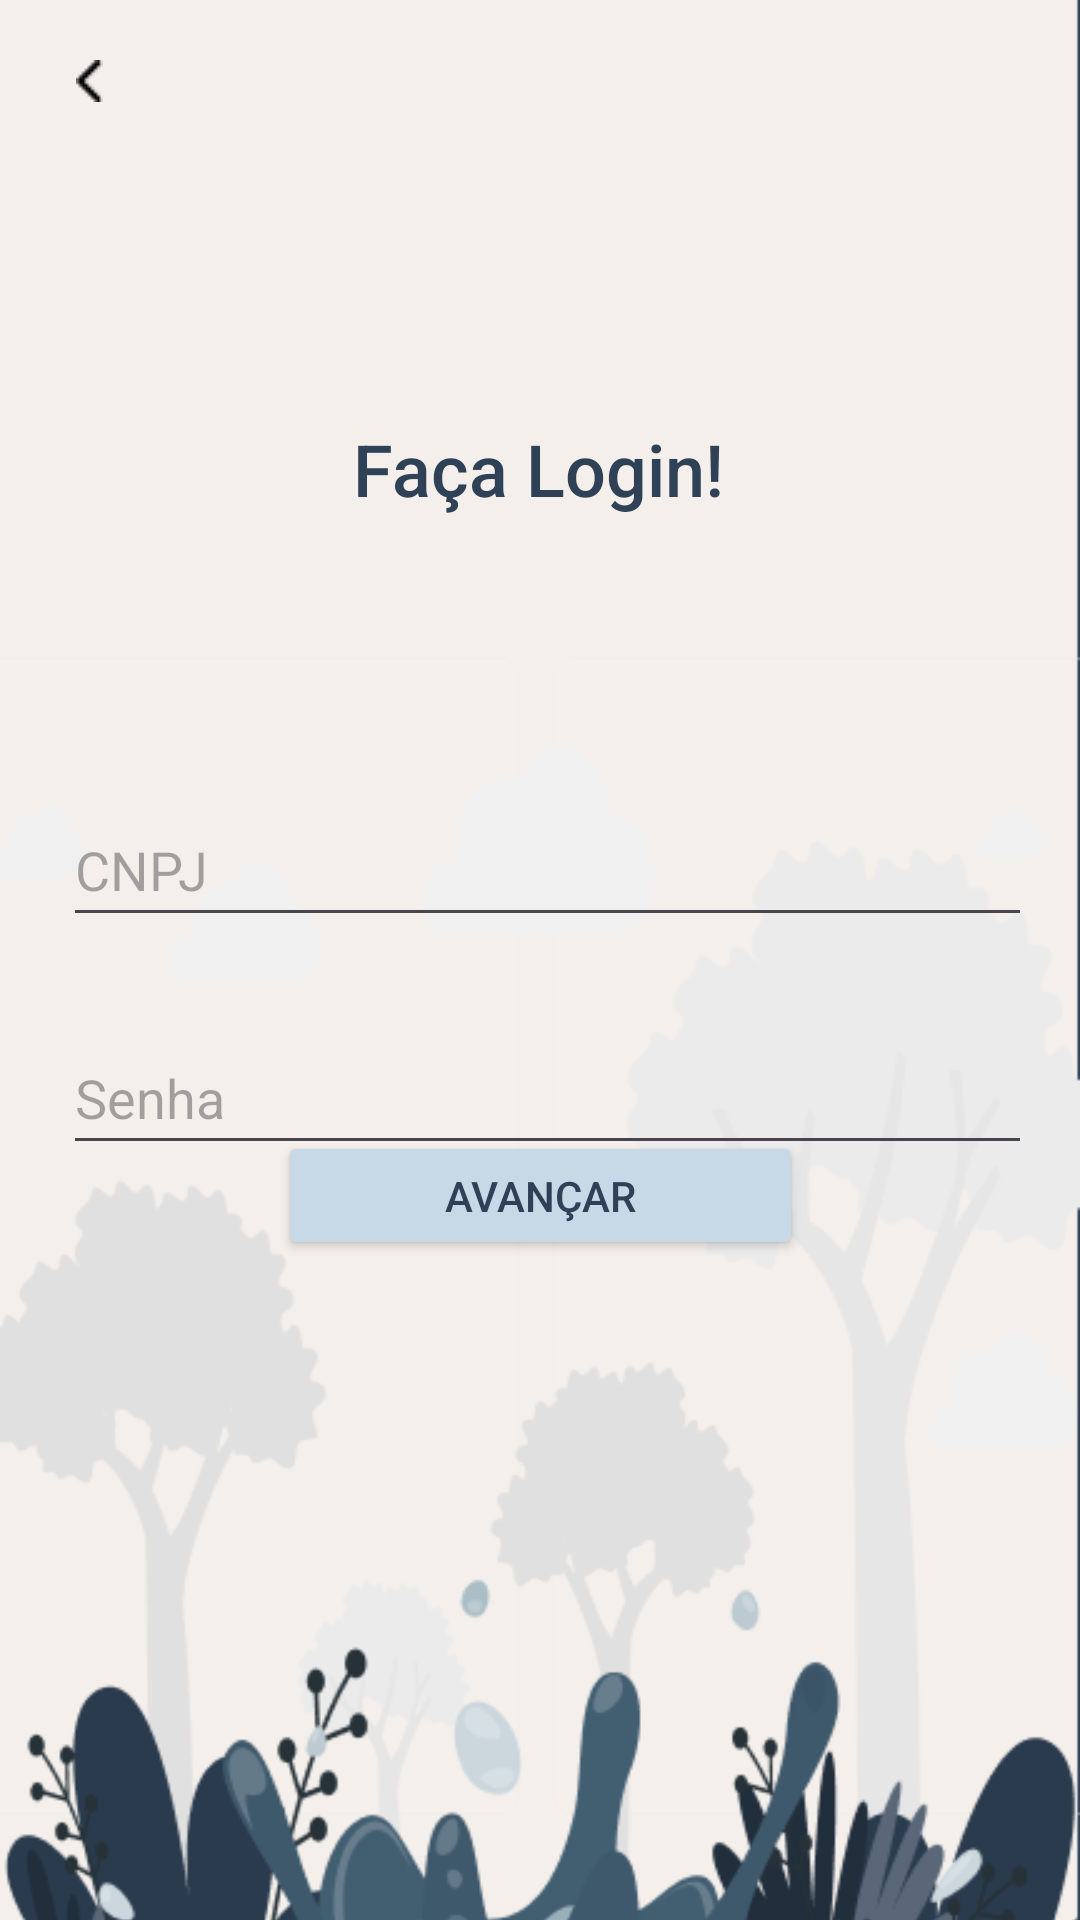

Named icons in this screenshot (1080w x 1920h) and their centers, point (x, y):
setaleft: point (89, 81)
